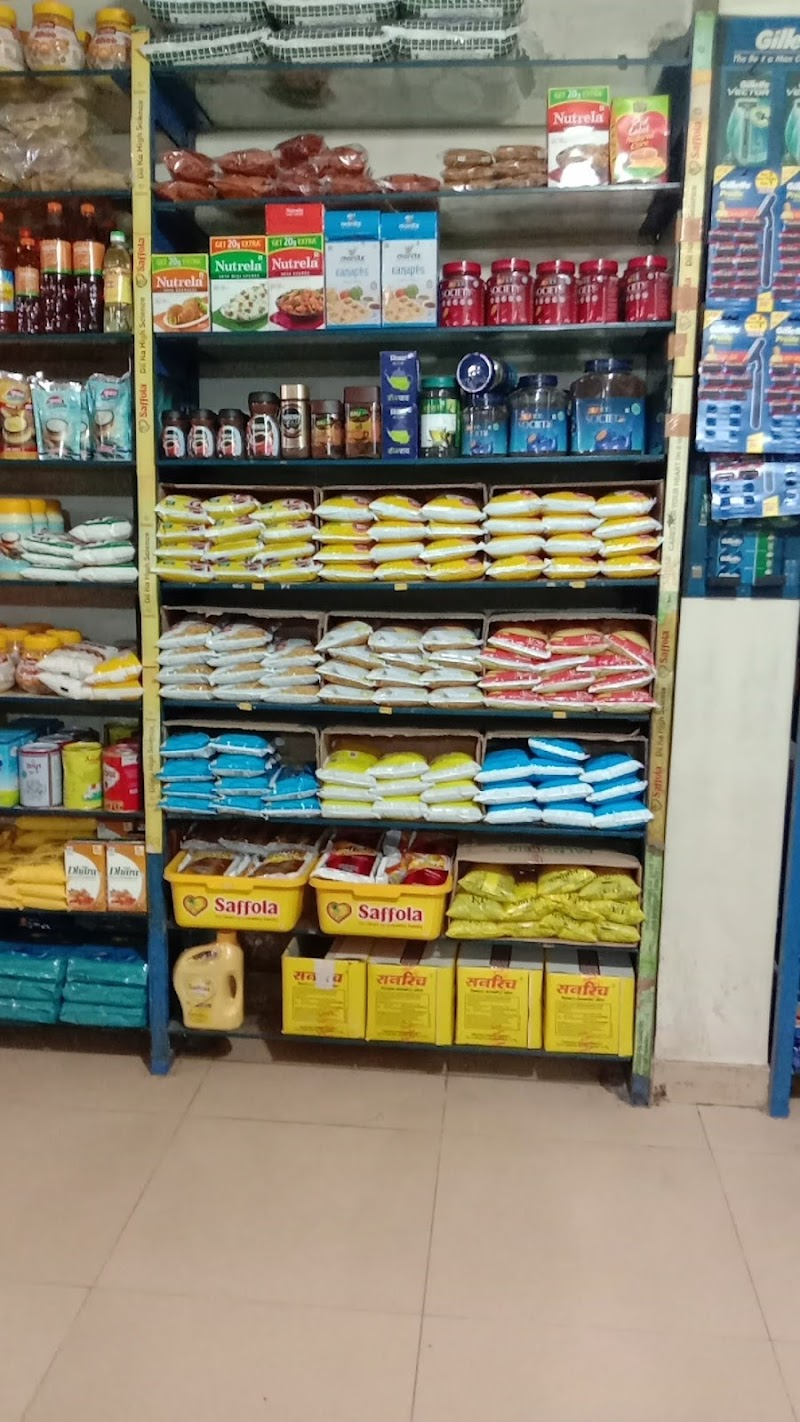saffola: (153, 477, 669, 1062)
